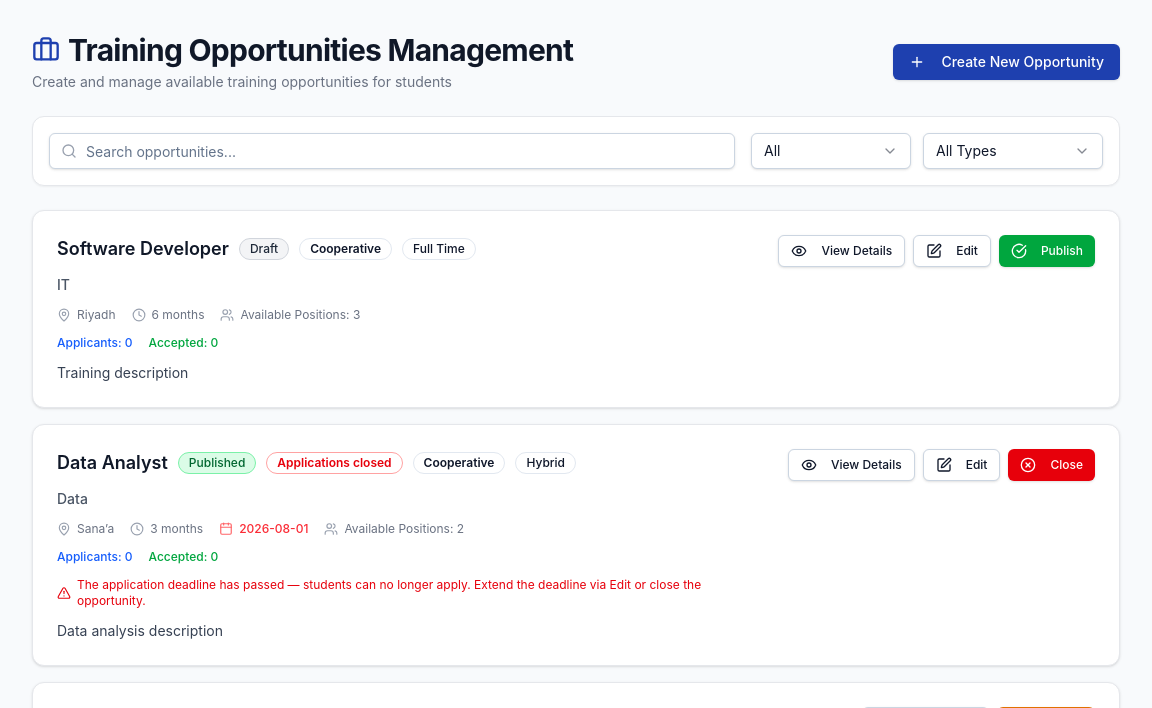
Test: OpportunitiesManagementPage & Opportunity Management Operations › opens the edit dialog and populates existing values
Click the button "Edit" in the row of "Draft" at (952, 251), box [913,235,991,267]
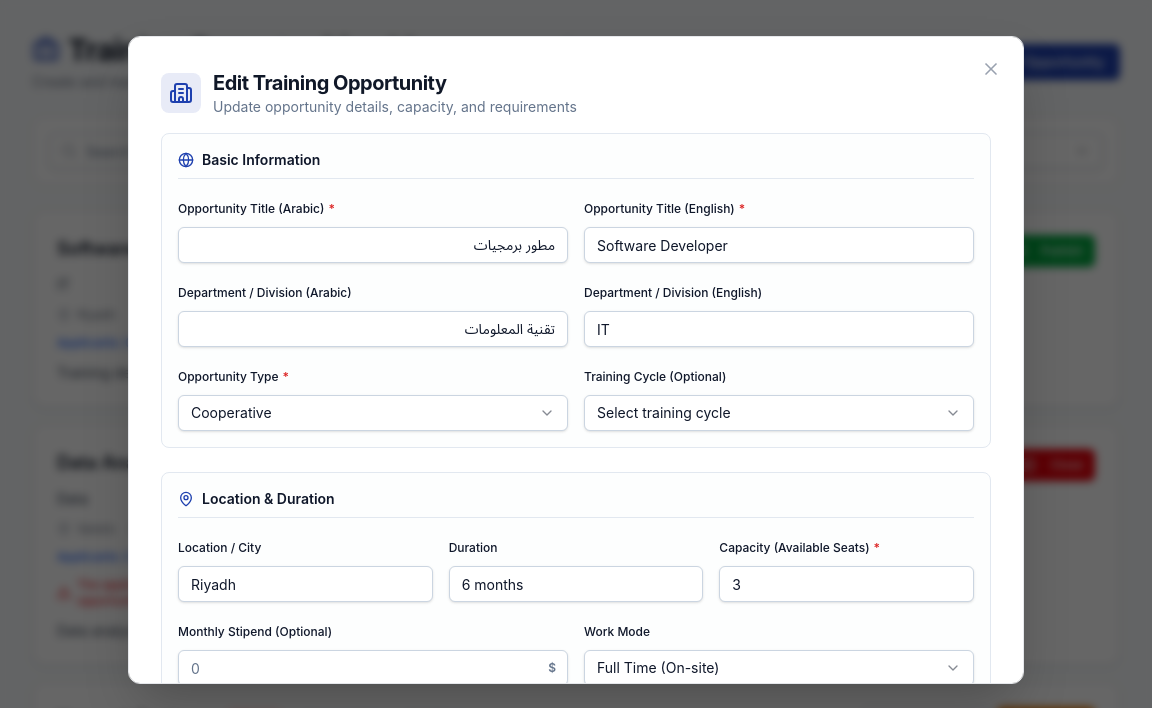
expect the heading "Edit Training Opportunity" is shown: met, box [213,71,446,95]
expect the field showing "Software Developer" is shown: met, box [584,227,974,263]
expect the field showing "مطور برمجيات" is shown: met, box [178,227,568,263]
